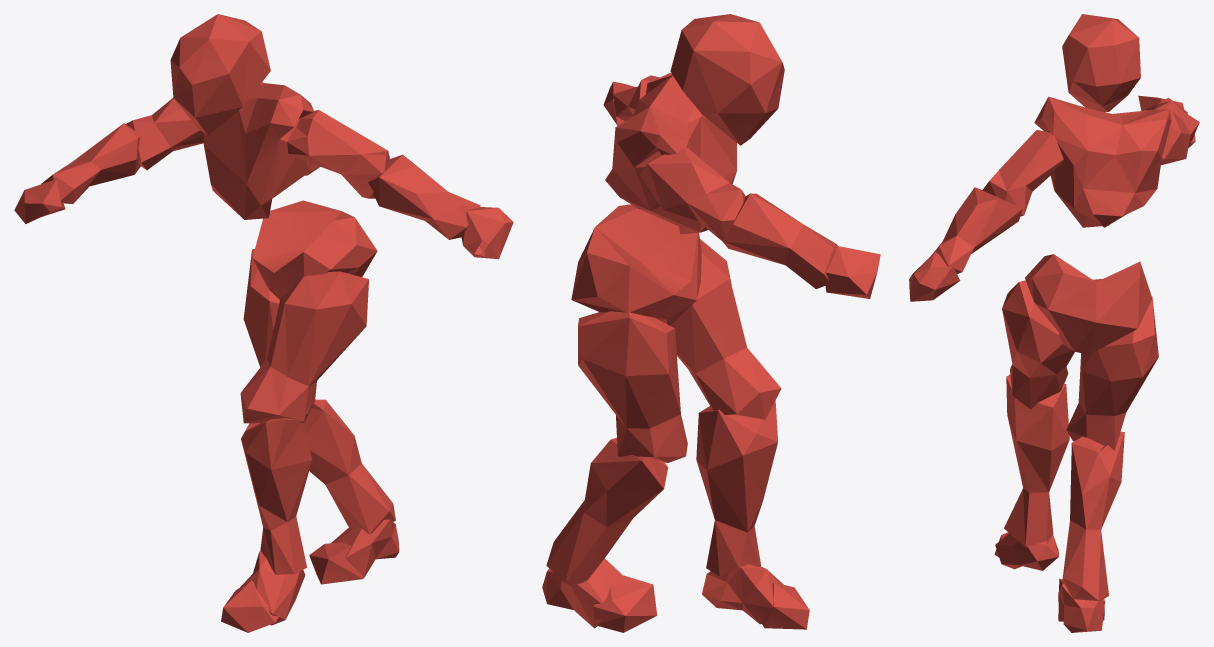
File: 2dancer0202.obj
3 views of the same model, side by side, from view 1: azimuth 30°, elevation 25°; view 2: azimuth 150°, elevation 25°; view 3: azimuth 270°, elevation 25° (orthographic). The views are drawn at different scales.
Visible parts, largest first — view 1: Beta_Surface; view 2: Beta_Surface; view 3: Beta_Surface.
Part boxes in pixels (box(x1,y1,x2,y2)): Beta_Surface: box(14, 14, 513, 632); Beta_Surface: box(542, 14, 880, 632); Beta_Surface: box(909, 14, 1199, 632).
Size of the model in its own units: 1.17 by 1.76 by 0.8415.
